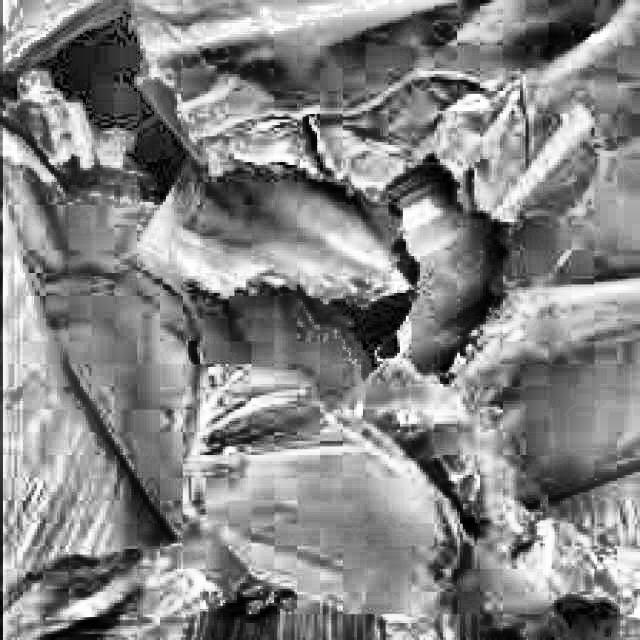box: (0, 1, 639, 639)
hole: (11, 14, 503, 386)
